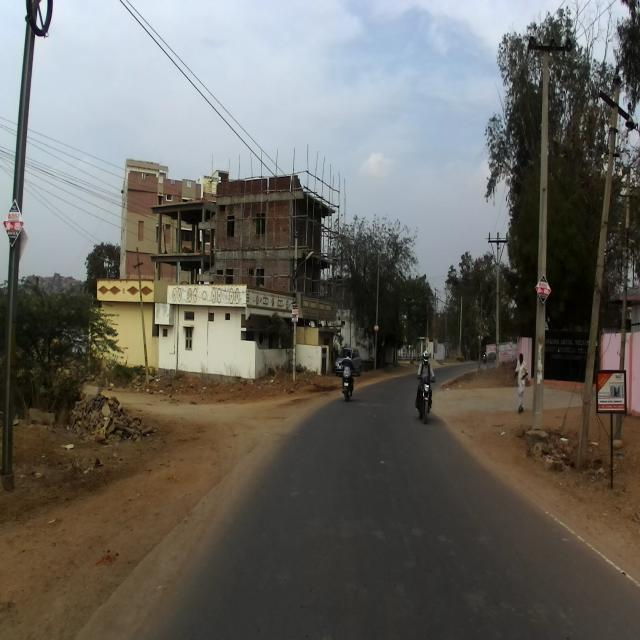electric pole ahead at: (2, 0, 52, 491), (523, 17, 566, 457)
